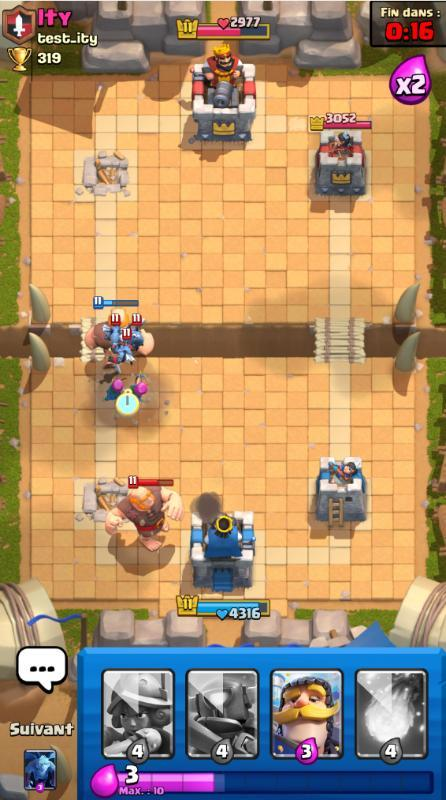archere: (130, 371, 150, 405), (104, 377, 128, 401)
gargouille: (104, 475, 184, 552), (108, 329, 136, 366), (123, 313, 148, 351), (102, 313, 123, 346)
geant: (85, 295, 154, 368)
